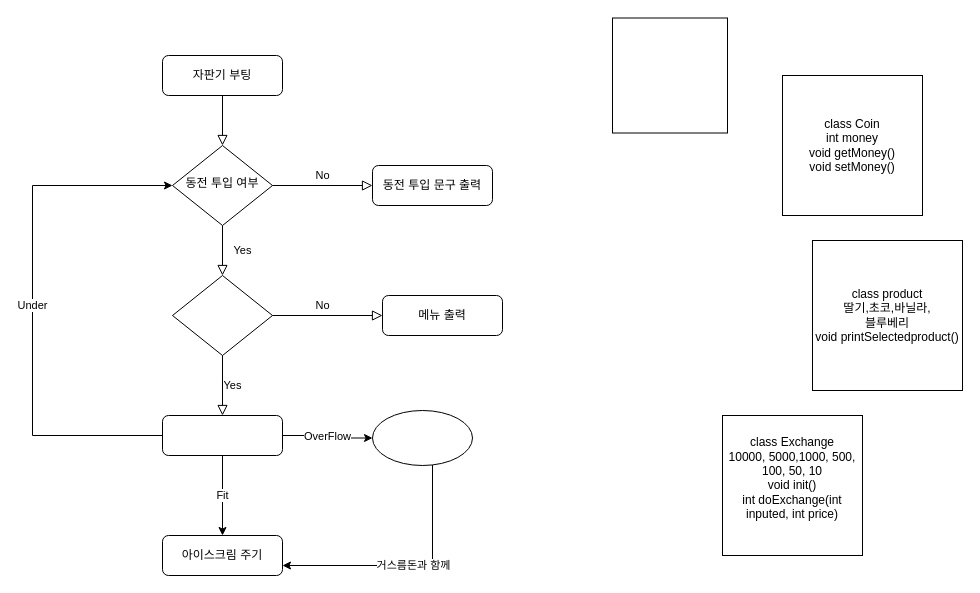
Some shapes in this 980 by 593 pixel diagram are drawn without their labels. The shapes that lost their labels are listed below. From the top down, each one's box as (x1, y1, x2, y2) in pixels, then its label:
(612, 17, 728, 133): class init main()
(172, 274, 272, 356): 메뉴 선택 여부
(162, 414, 282, 456): 가격 확인
(372, 410, 472, 466): 거스름돈 계산
